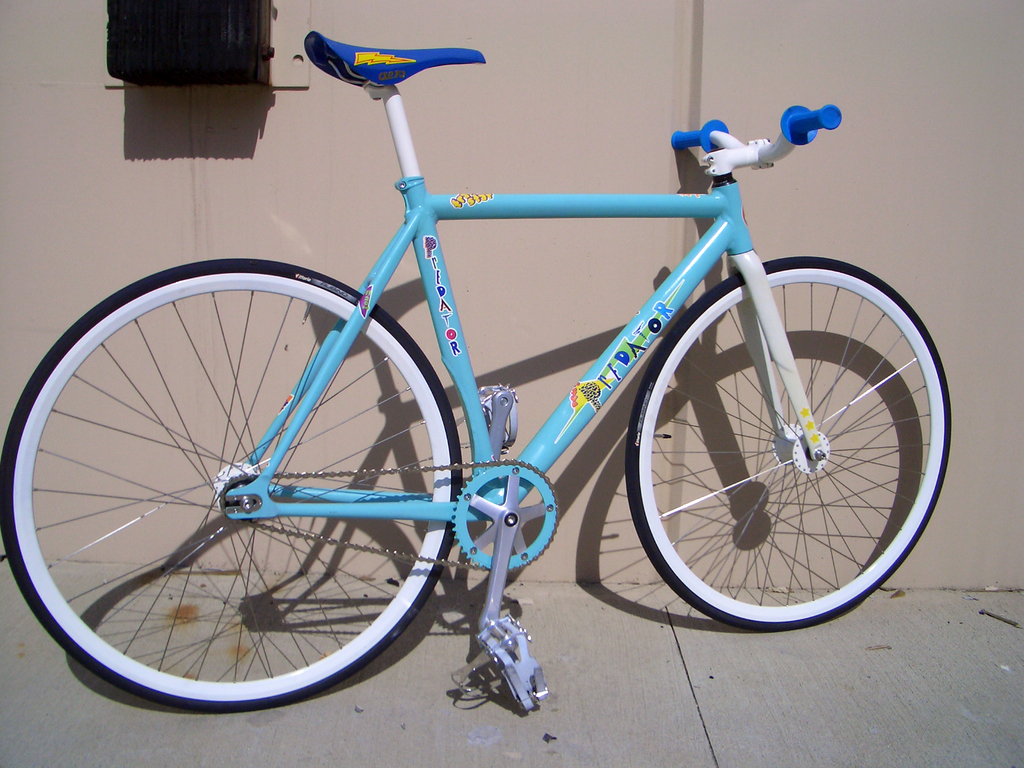Bike: (105, 56, 879, 664)
